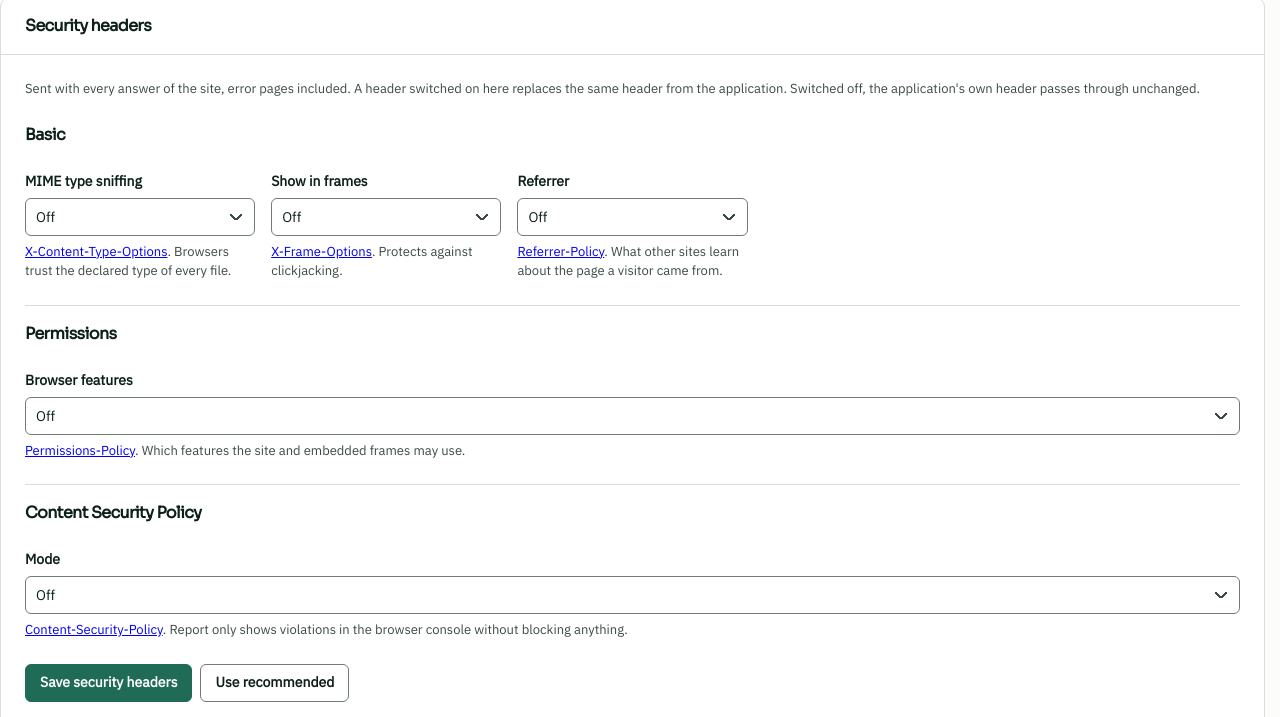
it: SecurityHeadersCard › warns before enforcing a policy
Select "Enforce" in the dropdown labelled "Mode" at (632, 595), box x1=25 y1=576 x2=1240 y2=614
(page scrolled)
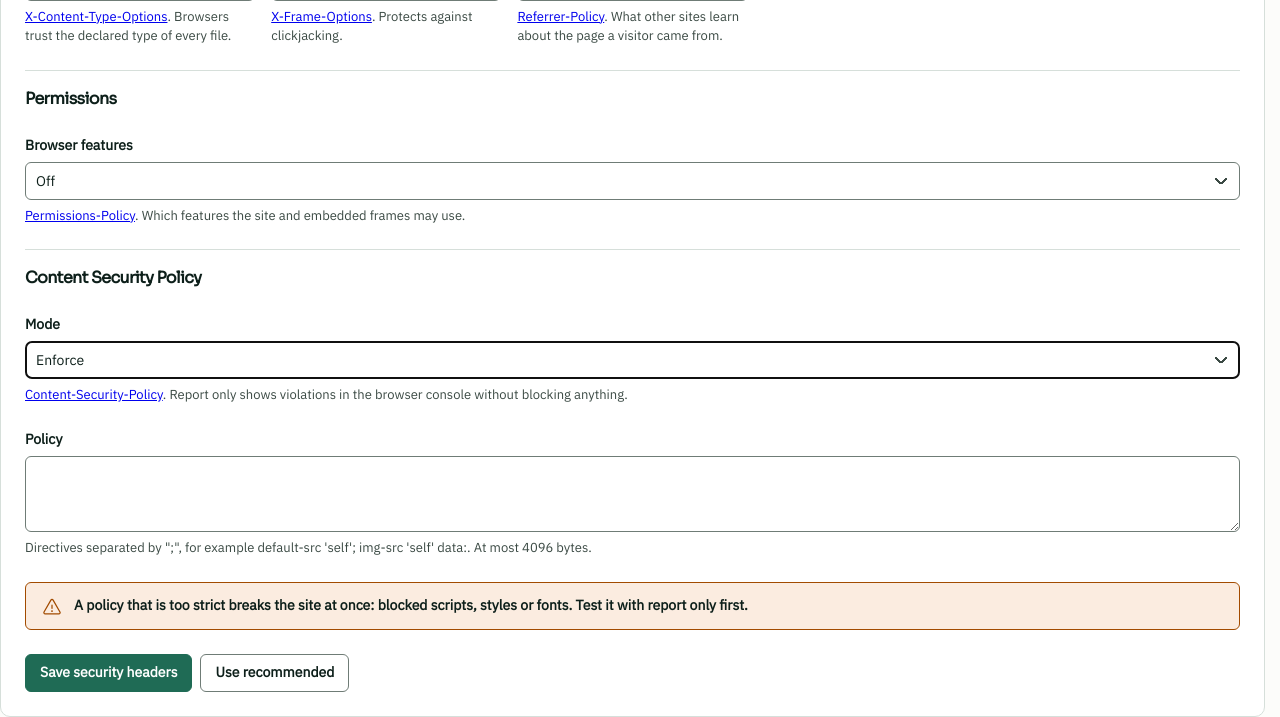
Expected: the text "breaks the site at once" is shown, x1=74 y1=596 x2=748 y2=614
